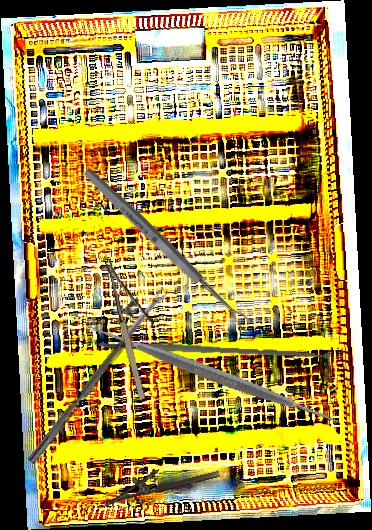Needle Holder: (104, 249, 169, 402), (98, 455, 221, 507)
Scalpel Handle: (96, 339, 325, 360)
Spatula Surgical: (85, 246, 343, 502)
Surgical Spoon: (81, 165, 252, 332), (27, 286, 170, 466)
